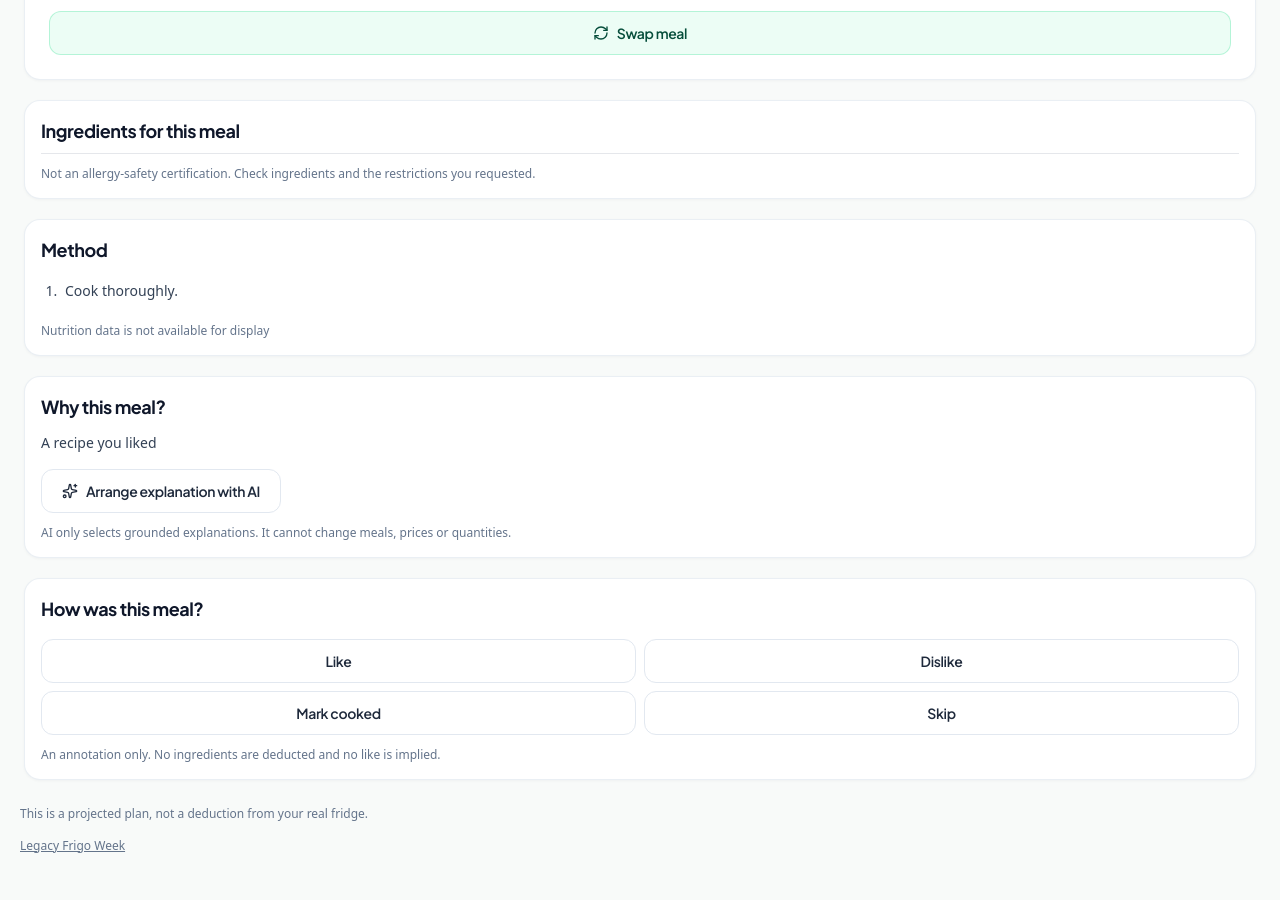
Test: mounted planner mutation interactions › records cooked through a revision-fenced receipt without claiming inventory mutation
(page scrolled)
Click the button "Mark cooked".
click(338, 713)  # box [41,691,636,735]
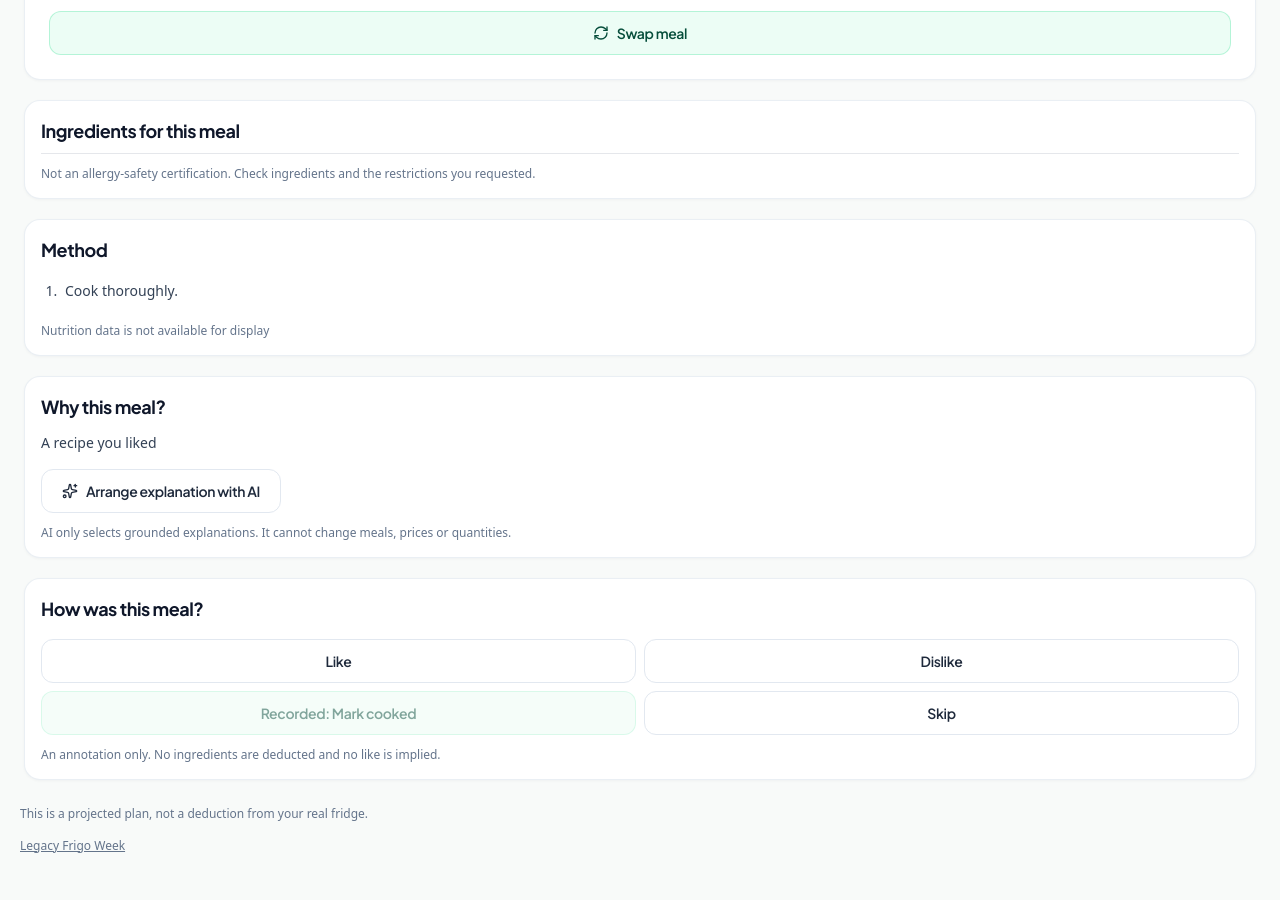
Expected: the text "An annotation only. No ingredients are deducted" is shown, [41,746,441,763]
Expected: the button "Recorded: Mark cooked" is disabled, [41,691,636,735]
